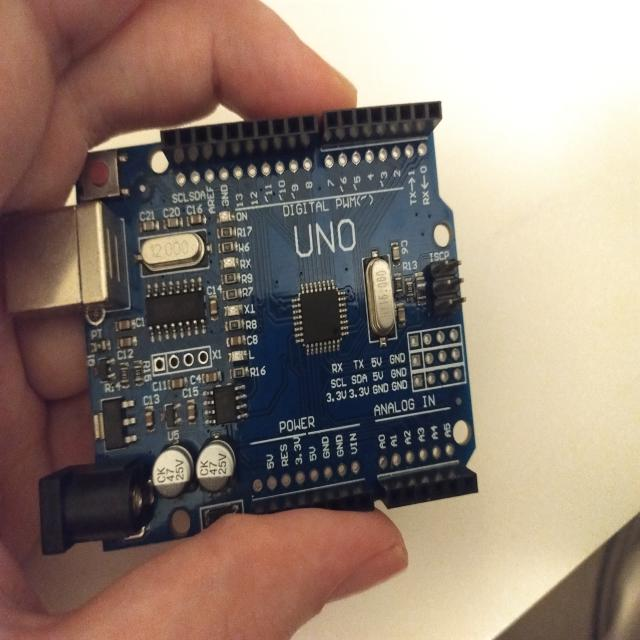arduino: (0, 110, 491, 548)
